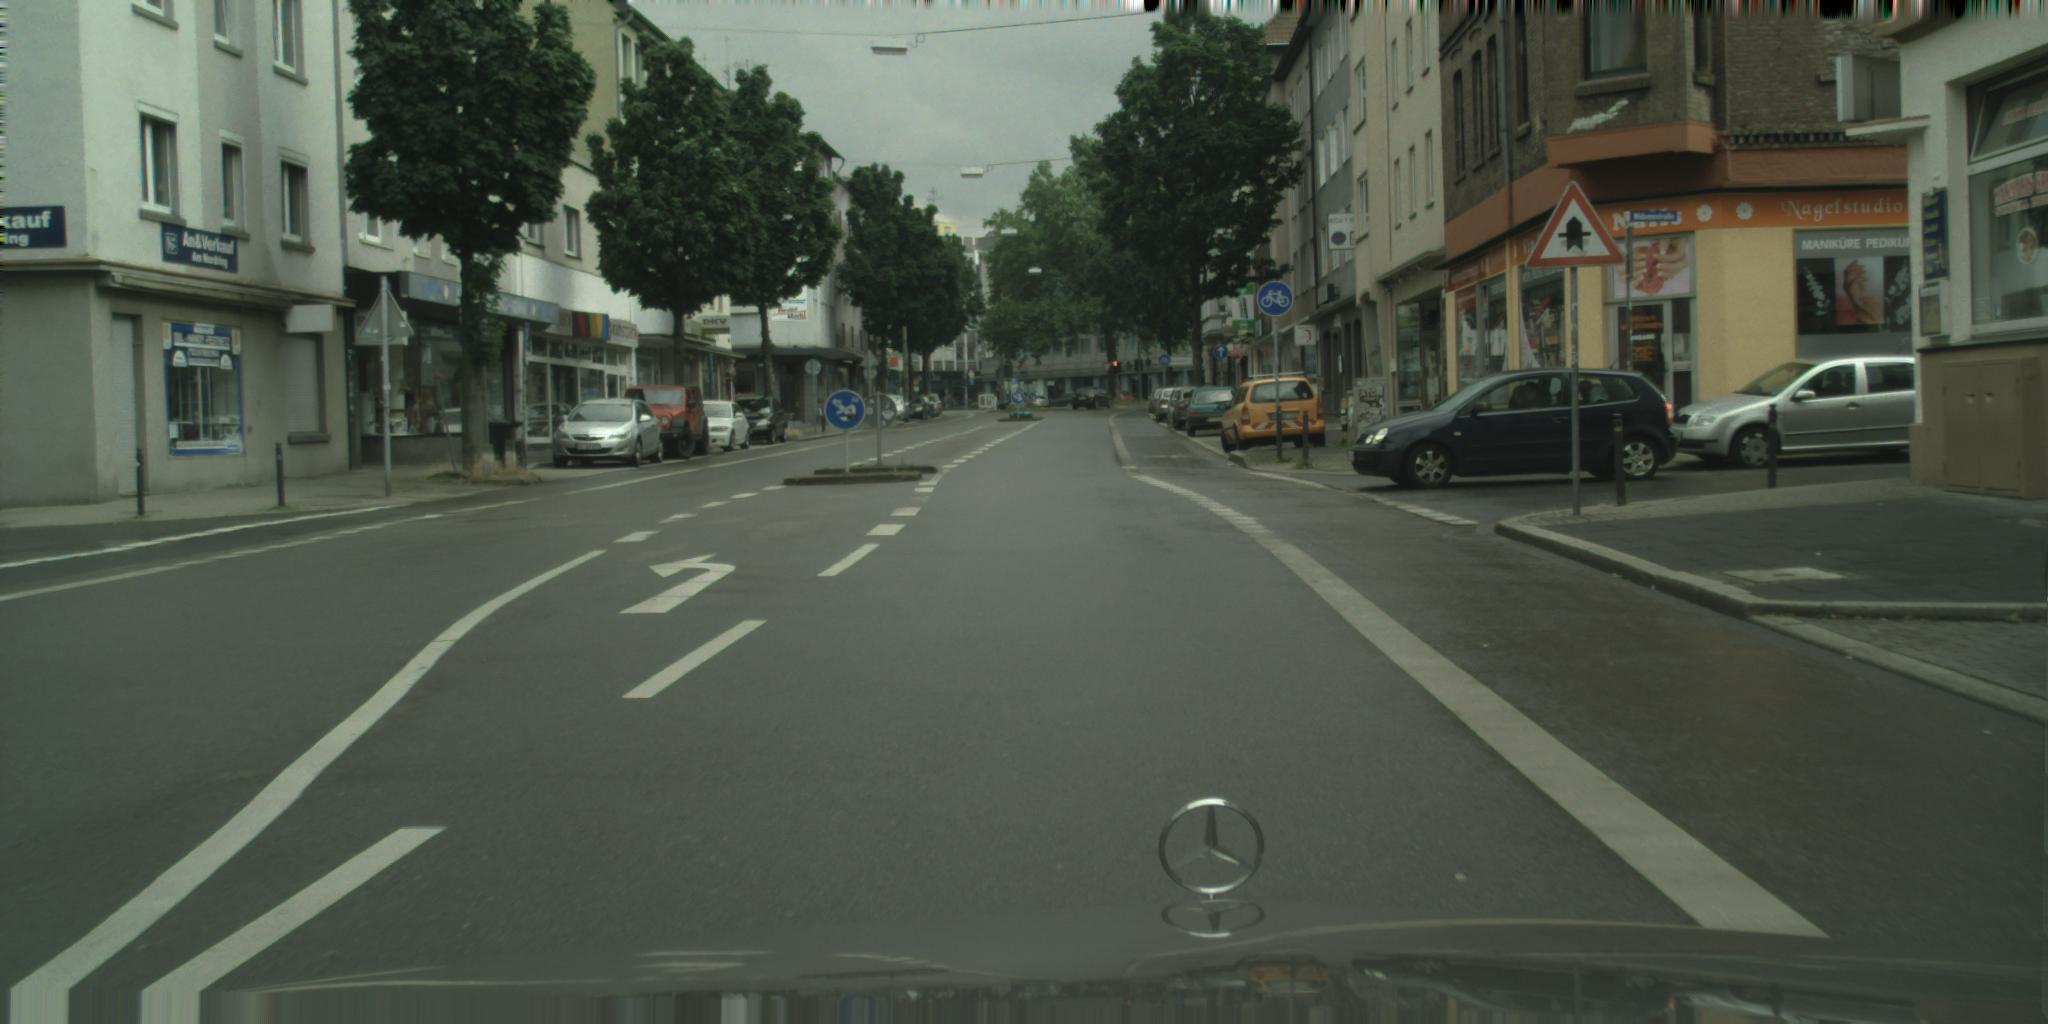car: (1347, 355, 1680, 492), (1671, 354, 1915, 470), (1221, 371, 1327, 455), (552, 397, 667, 472), (614, 384, 711, 460), (688, 400, 752, 455), (1185, 387, 1246, 439), (734, 394, 790, 445), (1173, 387, 1206, 432), (1155, 387, 1189, 424), (1162, 387, 1192, 428), (1074, 387, 1114, 411), (1147, 387, 1177, 415), (908, 394, 936, 421), (920, 394, 946, 421), (882, 394, 906, 421), (1050, 391, 1083, 408), (1113, 391, 1138, 404), (1029, 394, 1051, 408)
